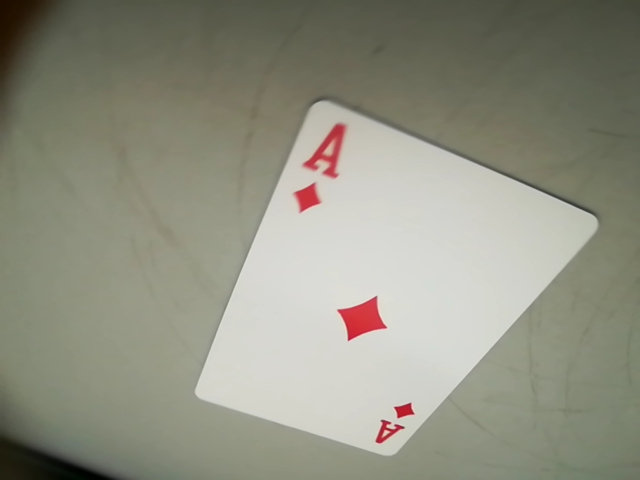fk a: (285, 105, 348, 209), (369, 396, 424, 453)
